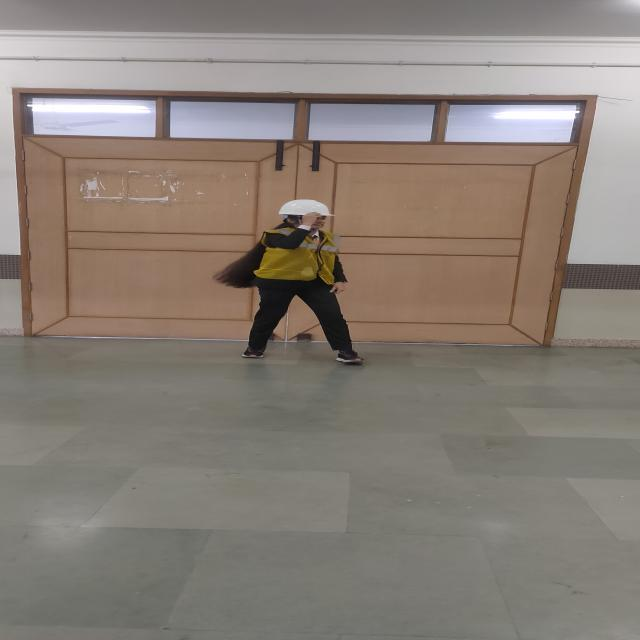safe: (213, 200, 364, 363)
